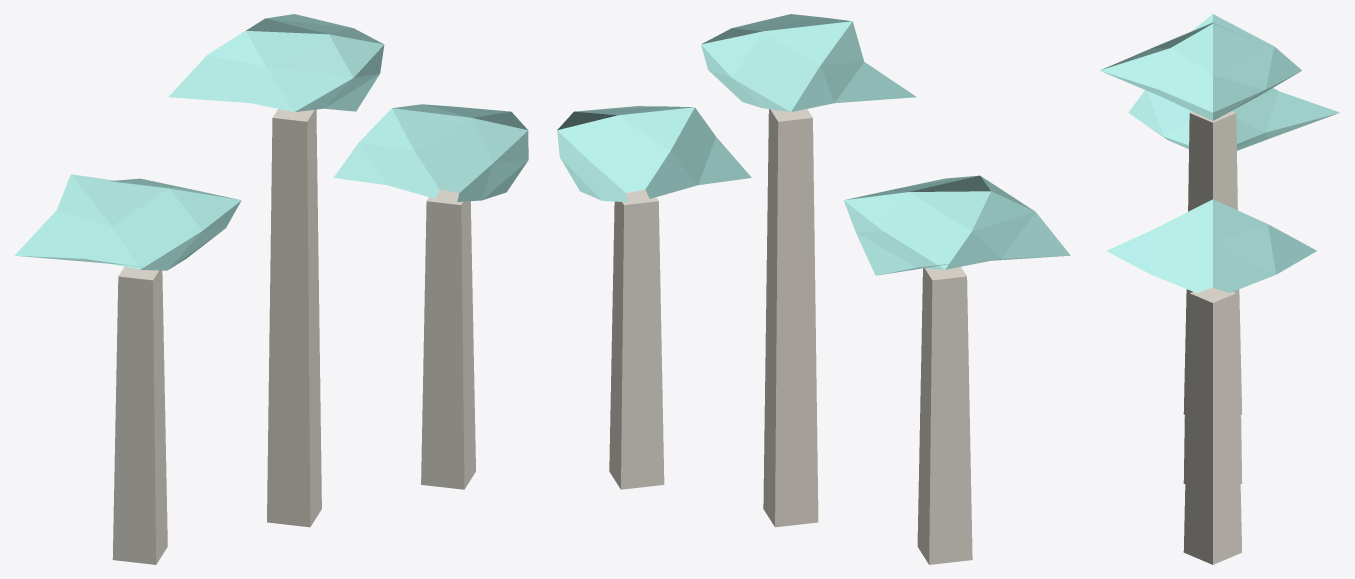
Rendered from glowcap_v22.glb.
3 views of the same model, side by side, from view 1: azimuth 30°, elevation 25°; view 2: azimuth 150°, elevation 25°; view 3: azimuth 270°, elevation 25° (orthographic). The views are drawn at different scales.
Parts seen in each view (by area): view 1: lod0; view 2: lod0; view 3: lod0.
Part boxes in pixels (<box>): lod0: <box>15,14,528,564</box>; lod0: <box>557,14,1070,564</box>; lod0: <box>1100,14,1339,564</box>.
Size of what is drawn, in the model's own units: 0.4668 by 0.4355 by 0.2064.
